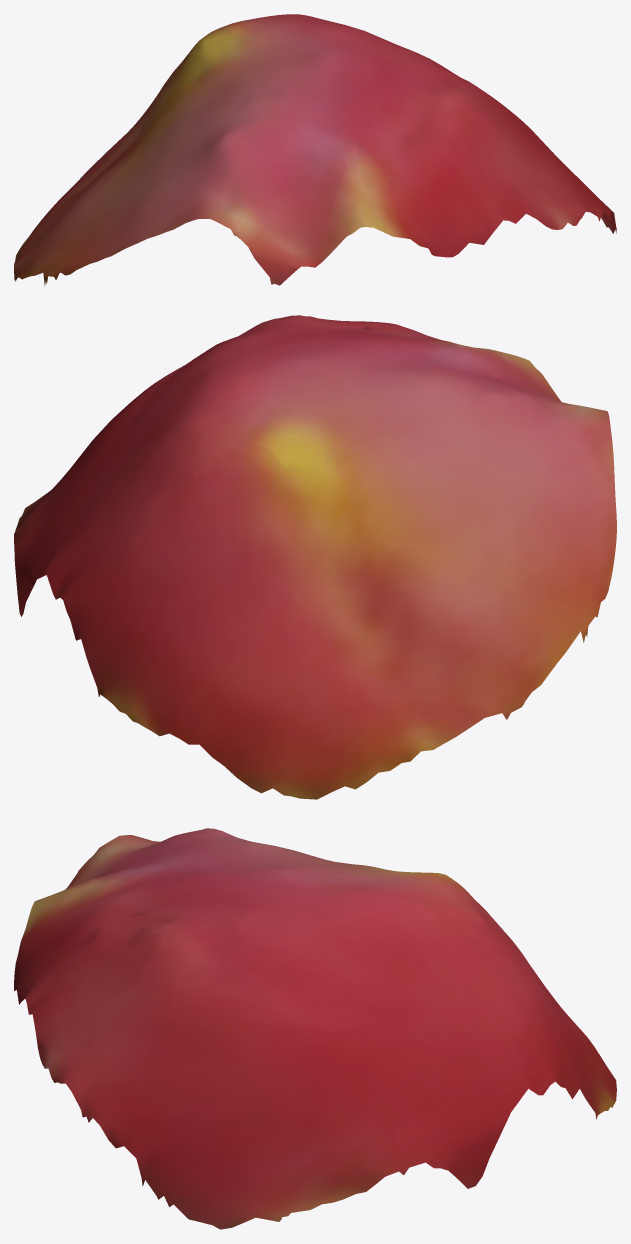
Rendered from Zona_B_Starubliukas.obj.
3 renders of one model, top to bottom at view 1: azimuth 30°, elevation 25°; view 2: azimuth 150°, elevation 25°; view 3: azimuth 270°, elevation 25°, orthographic. The views are drawn at different scales.
Visible parts, largest first — view 1: Iliostoma_su_plokštele_nevalyta_su_maceracija_02.001_Iliostoma_s; view 2: Iliostoma_su_plokštele_nevalyta_su_maceracija_02.001_Iliostoma_s; view 3: Iliostoma_su_plokštele_nevalyta_su_maceracija_02.001_Iliostoma_s.
Part boxes in pixels (x1,y1,x2,y2): Iliostoma_su_plokštele_nevalyta_su_maceracija_02.001_Iliostoma_s: (14, 14, 616, 286); Iliostoma_su_plokštele_nevalyta_su_maceracija_02.001_Iliostoma_s: (14, 315, 616, 799); Iliostoma_su_plokštele_nevalyta_su_maceracija_02.001_Iliostoma_s: (14, 828, 616, 1229).
Bounding box in the file's own units: 0.0843 × 0.0402 × 0.0788.
